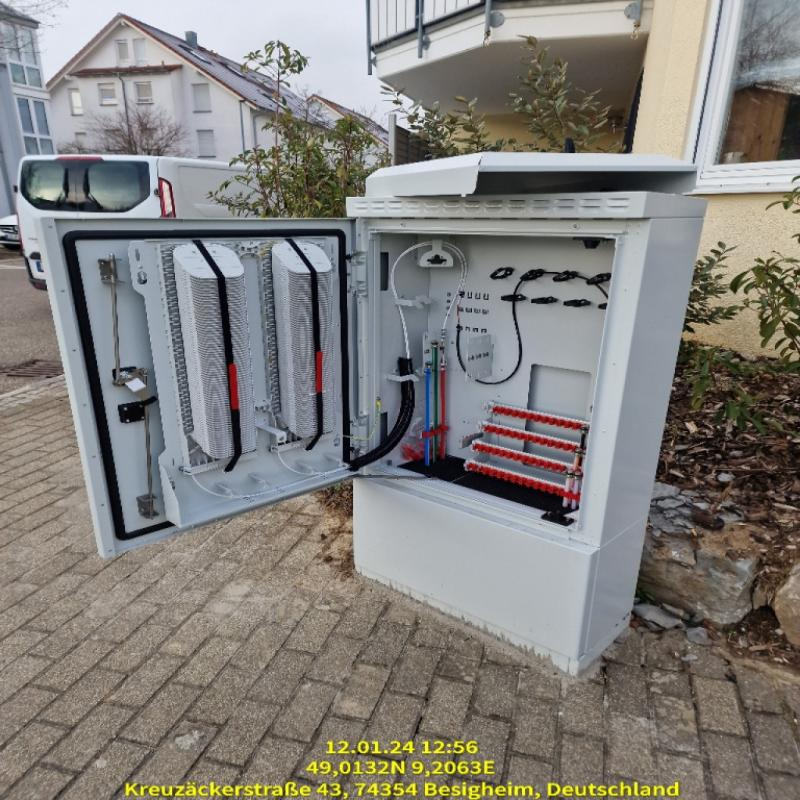NT-Gehause: (45, 194, 700, 672)
Spleiskassetten: (153, 242, 264, 463), (261, 239, 340, 447)
